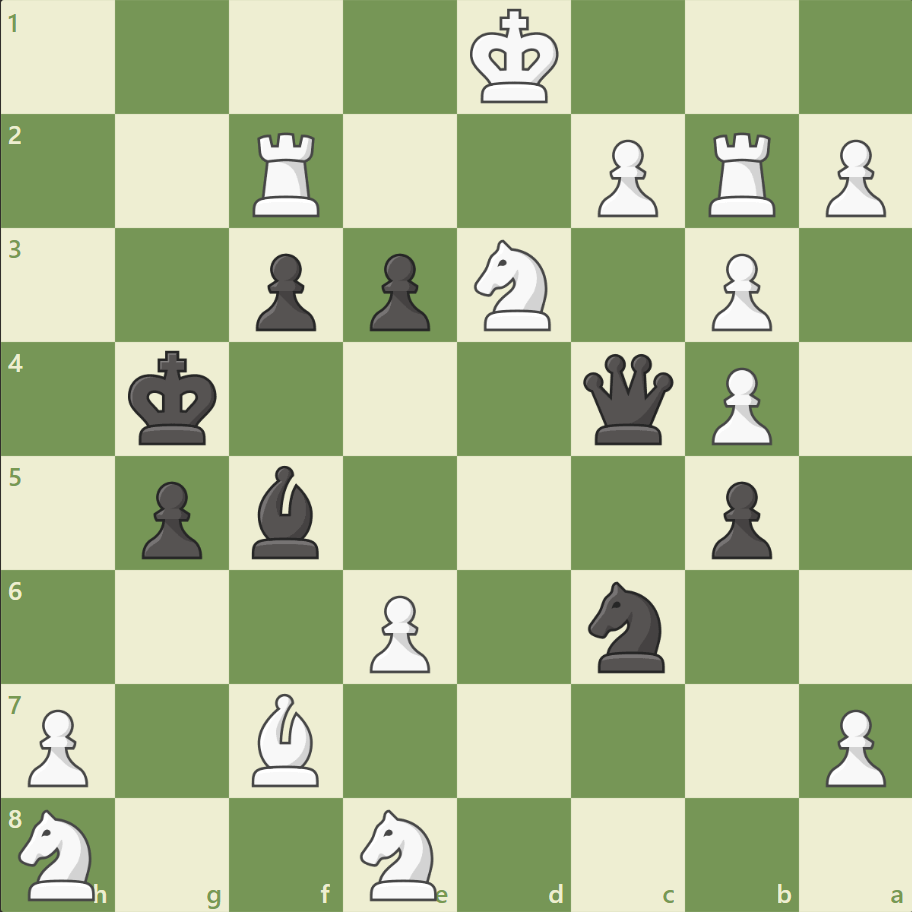B: (244, 687, 328, 790)
K: (465, 4, 565, 112)
N: (351, 802, 449, 904), (465, 234, 562, 337), (11, 802, 108, 904)
P: (20, 700, 95, 791), (701, 359, 776, 450), (701, 246, 776, 337), (815, 700, 889, 791), (361, 586, 435, 677), (815, 132, 889, 223), (588, 132, 662, 223)
R: (700, 125, 783, 222), (246, 125, 329, 222)
b: (244, 460, 328, 563)
k: (124, 344, 224, 452)
n: (579, 575, 676, 677)
p: (701, 473, 776, 564), (133, 473, 208, 564), (247, 246, 322, 337), (361, 246, 435, 337)
q: (578, 349, 677, 449)
